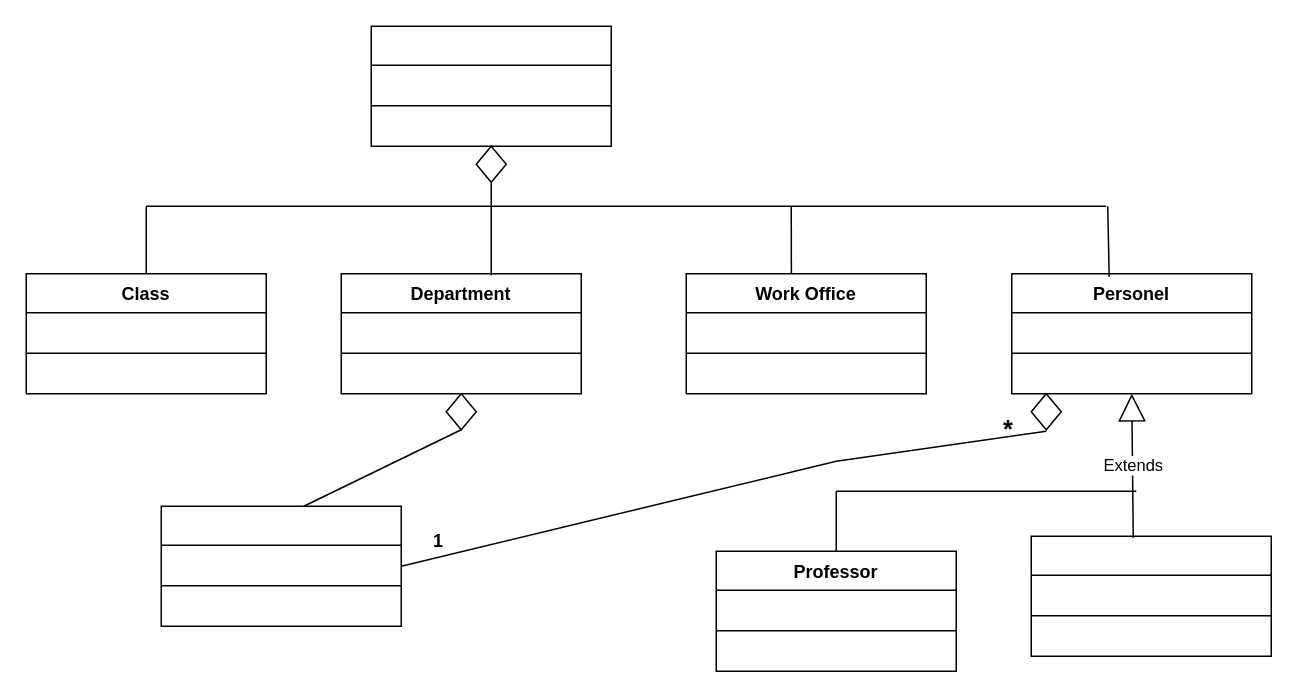
This 1298x698 diagram has some shape labels left out. Here are the shapes that lost their labels. From the top down, the centre of each, then its label:
At (x=490, y=85): "University".
At (x=280, y=565): "Office".
At (x=1150, y=595): "Officer".
